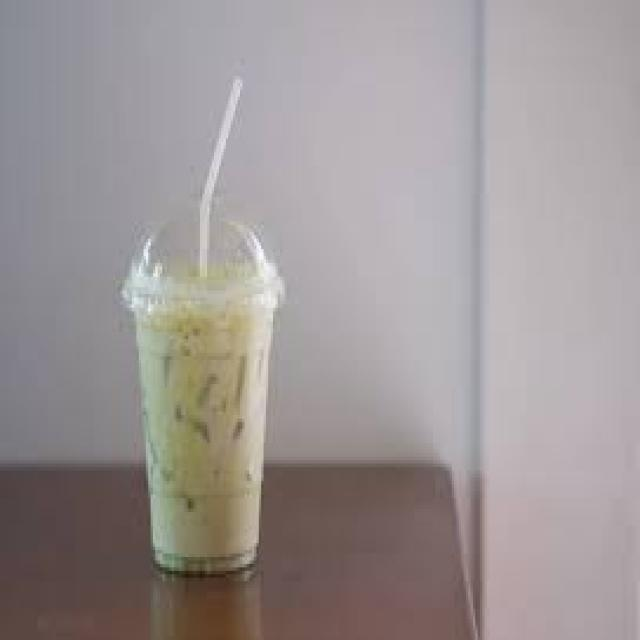bottle: (124, 278, 279, 572)
